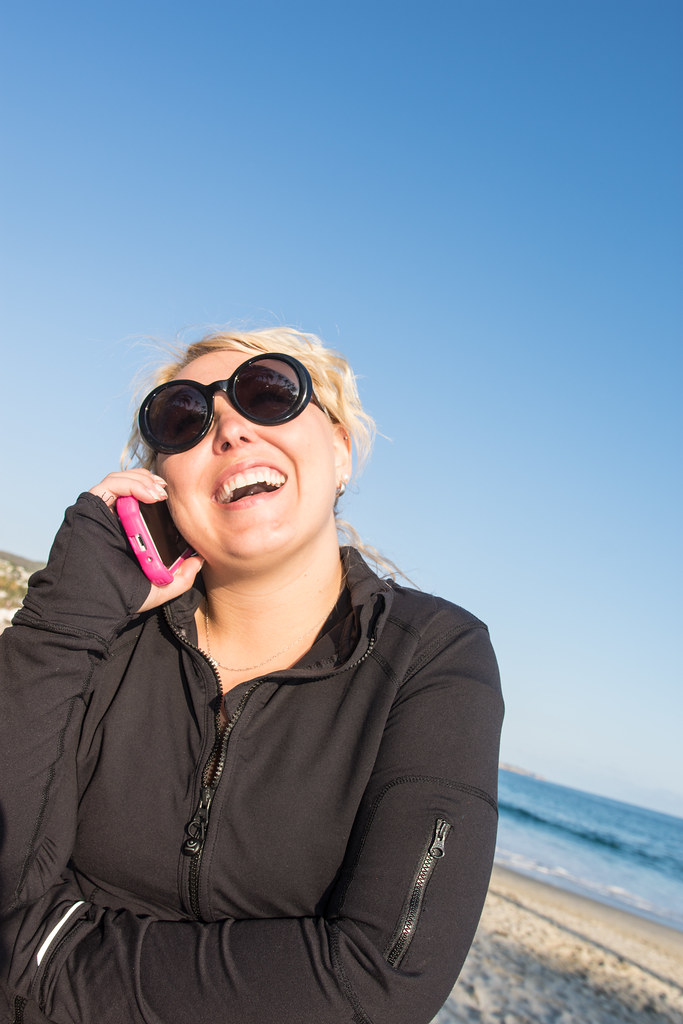phone: (110, 445, 193, 596)
talk: (54, 350, 318, 629)
